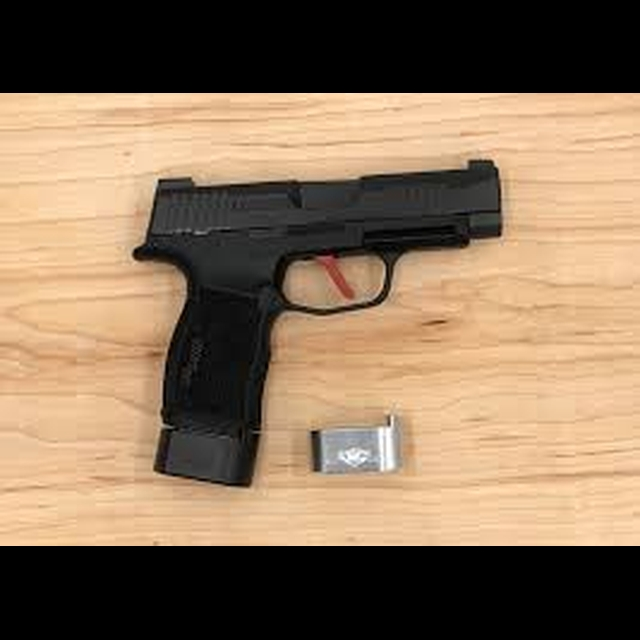SILAH: (123, 161, 512, 417)
